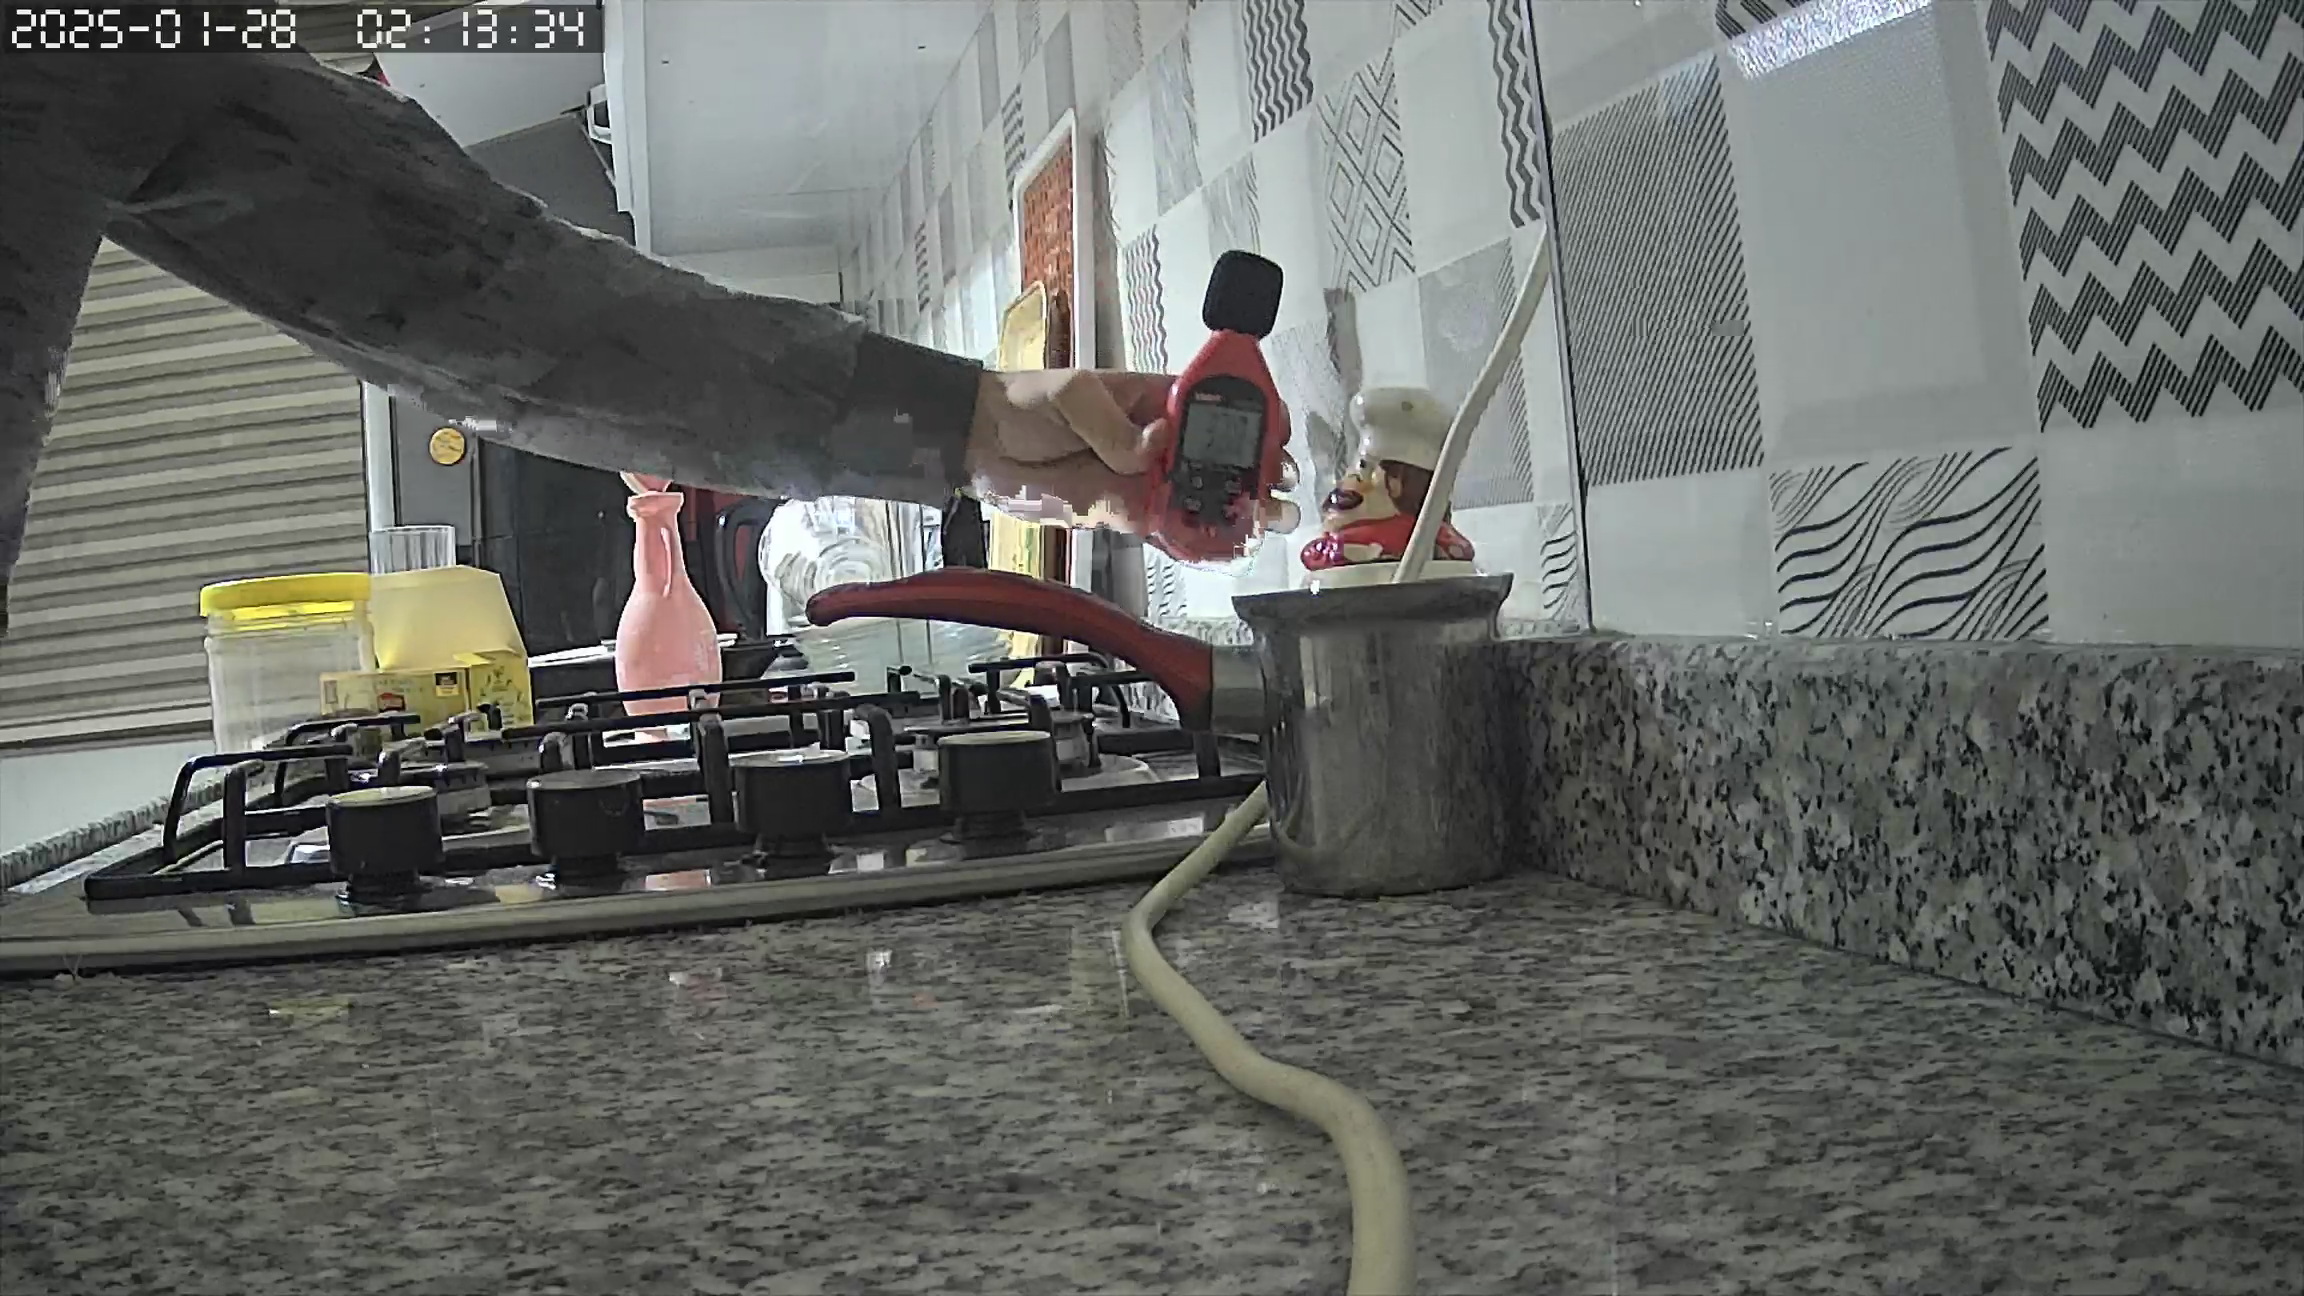screen: (1180, 407, 1263, 467)
